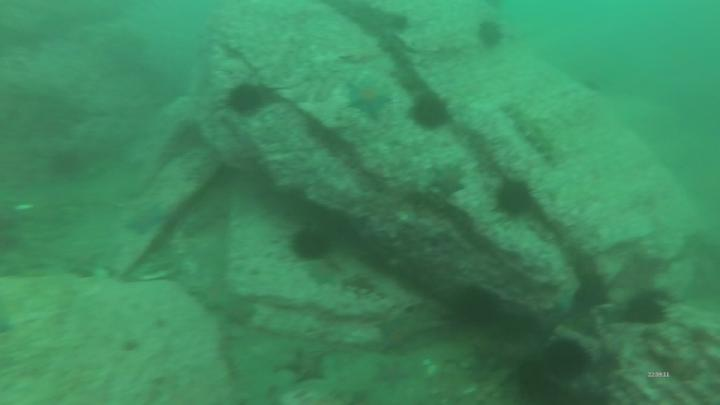echinus: (549, 341, 585, 380), (461, 289, 498, 324), (412, 94, 445, 130), (230, 87, 266, 116), (499, 182, 531, 213), (294, 229, 329, 256), (579, 276, 608, 307), (630, 299, 663, 325), (480, 22, 503, 46)
holothurian: (501, 106, 561, 165)
starfish: (352, 83, 391, 117), (381, 319, 415, 356), (286, 352, 327, 382), (431, 164, 463, 195), (128, 210, 166, 231), (376, 363, 408, 386)
